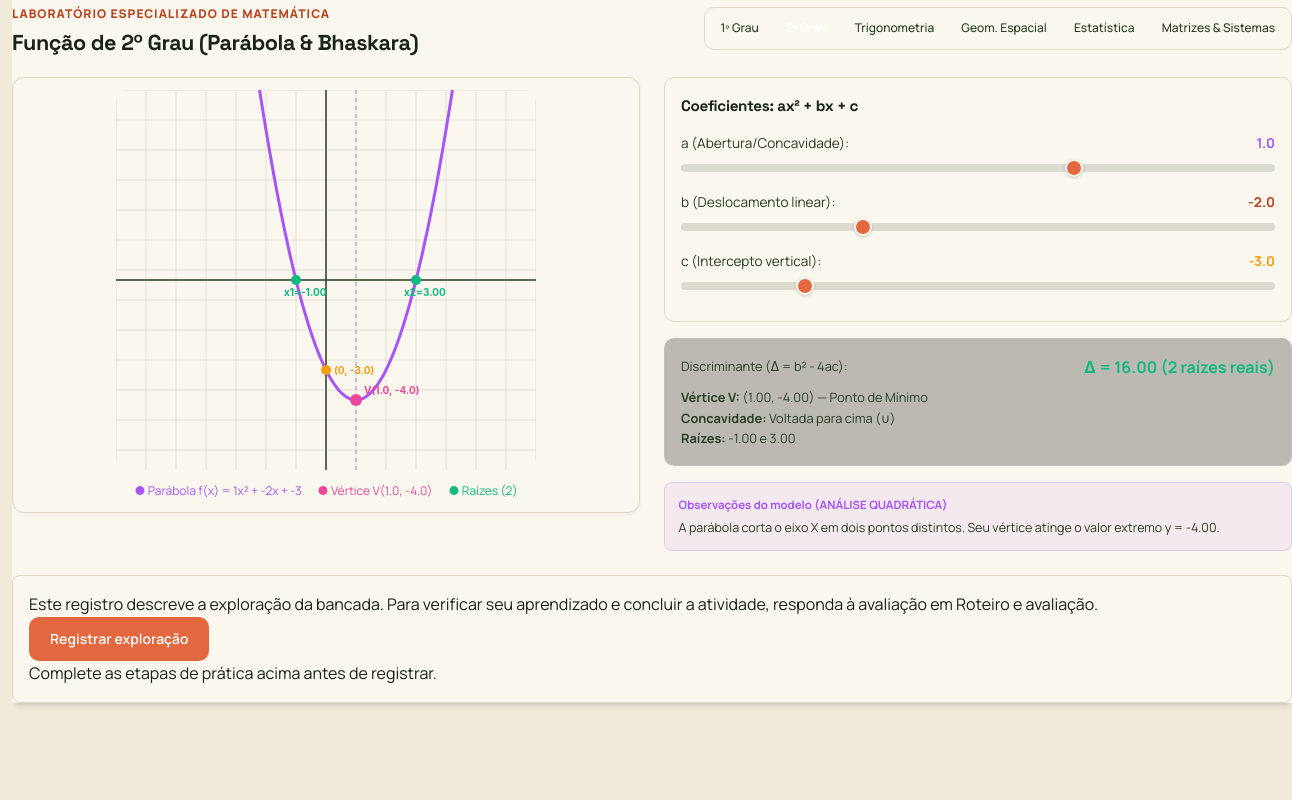
MathSimulator - 6 Unique Specialized Laboratories Suite › 2. Quadratic Mode (Função de 2º Grau) renders Bhaskara, delta, and vertex
The width and height of the screenshot is (1292, 800).
Expected: the heading "Função de 2º Grau (Parábola & Bhaskara)" is shown, [12, 29, 418, 57]
Expected: the text "Discriminante (Δ = b² - 4ac):" is shown, [681, 357, 848, 377]
Set the slider below "a (Abertura/Concavidade):" to "2" at point(1171, 168), box [681, 164, 1275, 172]
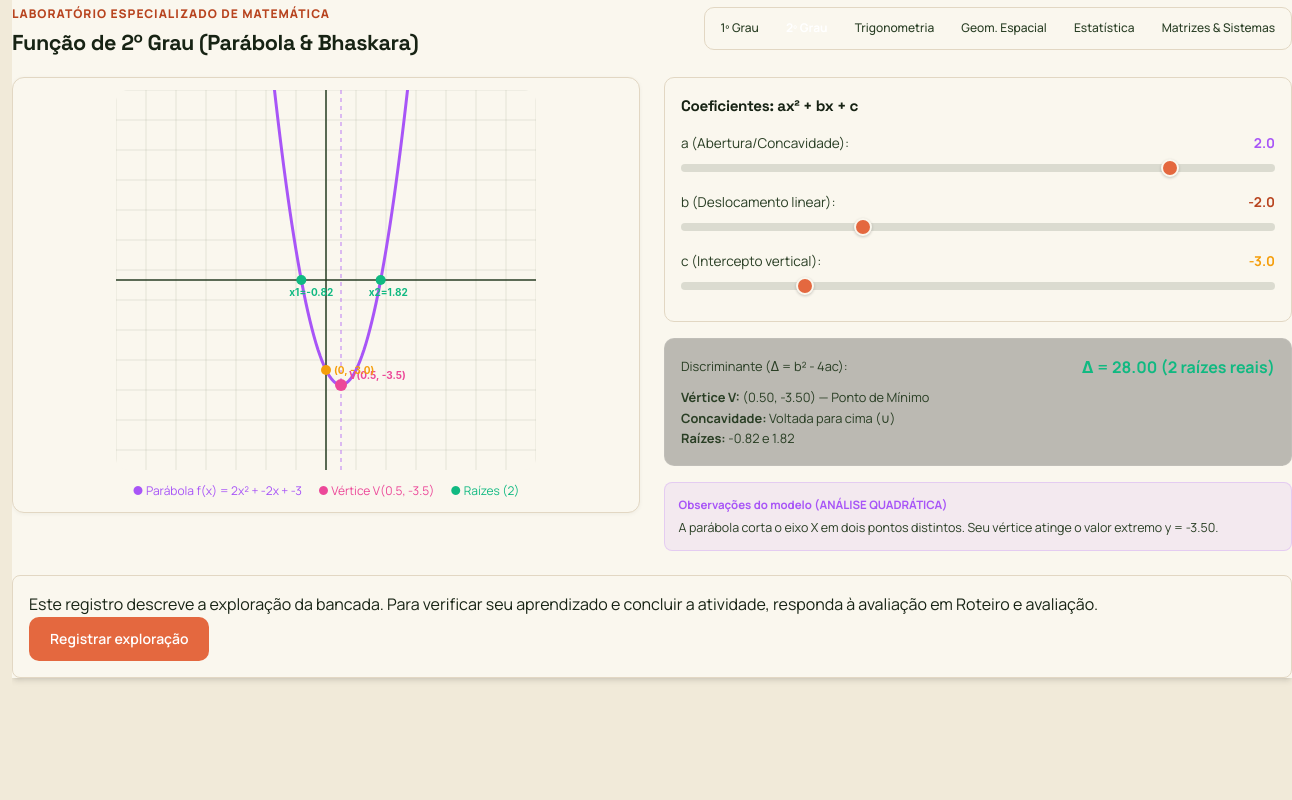
Click the button "Registrar exploração" at point(119, 639), box [29, 617, 210, 661]
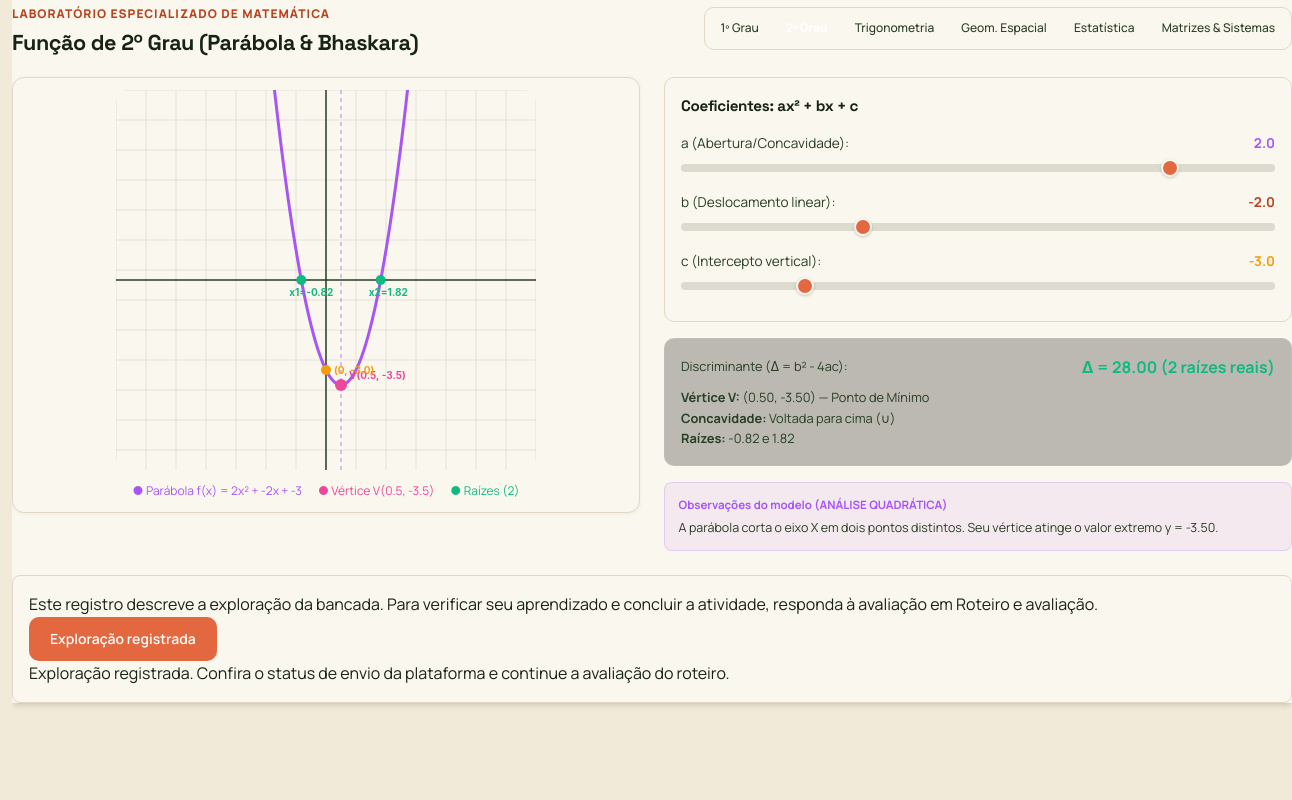
Result: the button "Exploração registrada" is shown at [29, 617, 217, 661]
